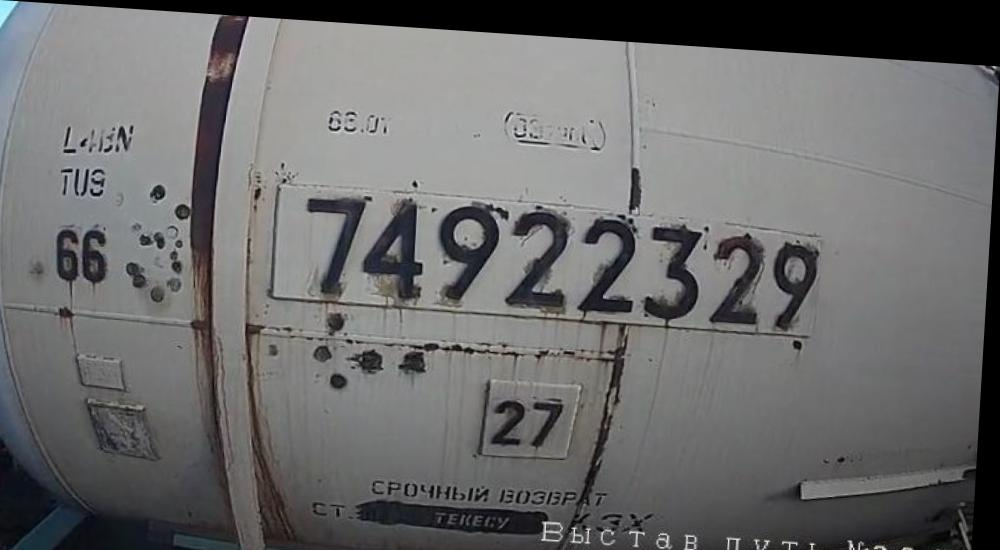Wagon-number: (299, 182, 828, 325)
